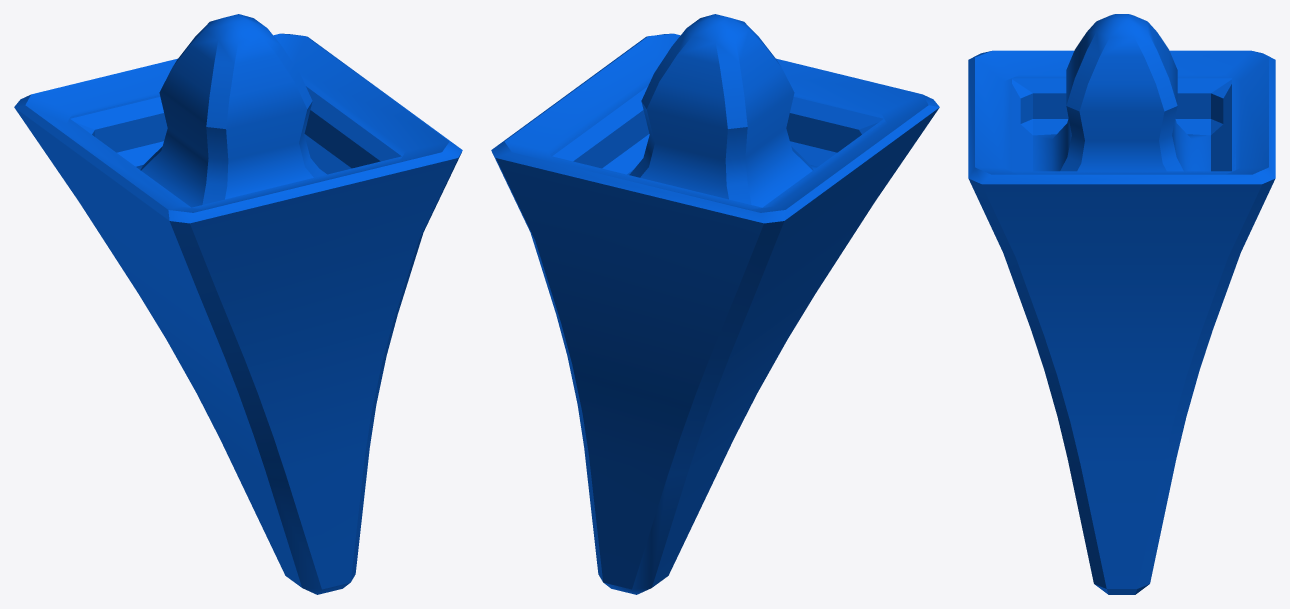
File: SM_Castle_Torch.fbx
3 views of the same model, side by side, from view 1: azimuth 30°, elevation 25°; view 2: azimuth 150°, elevation 25°; view 3: azimuth 270°, elevation 25° (orthographic). The views are drawn at different scales.
Parts seen in each view (by area): view 1: Torch; view 2: Torch; view 3: Torch.
Part boxes in pixels (bbox=[...]): Torch: bbox=[14, 14, 462, 594]; Torch: bbox=[491, 14, 939, 594]; Torch: bbox=[968, 14, 1275, 594].
Bounding box in the file's own units: 216 × 415 × 216.
